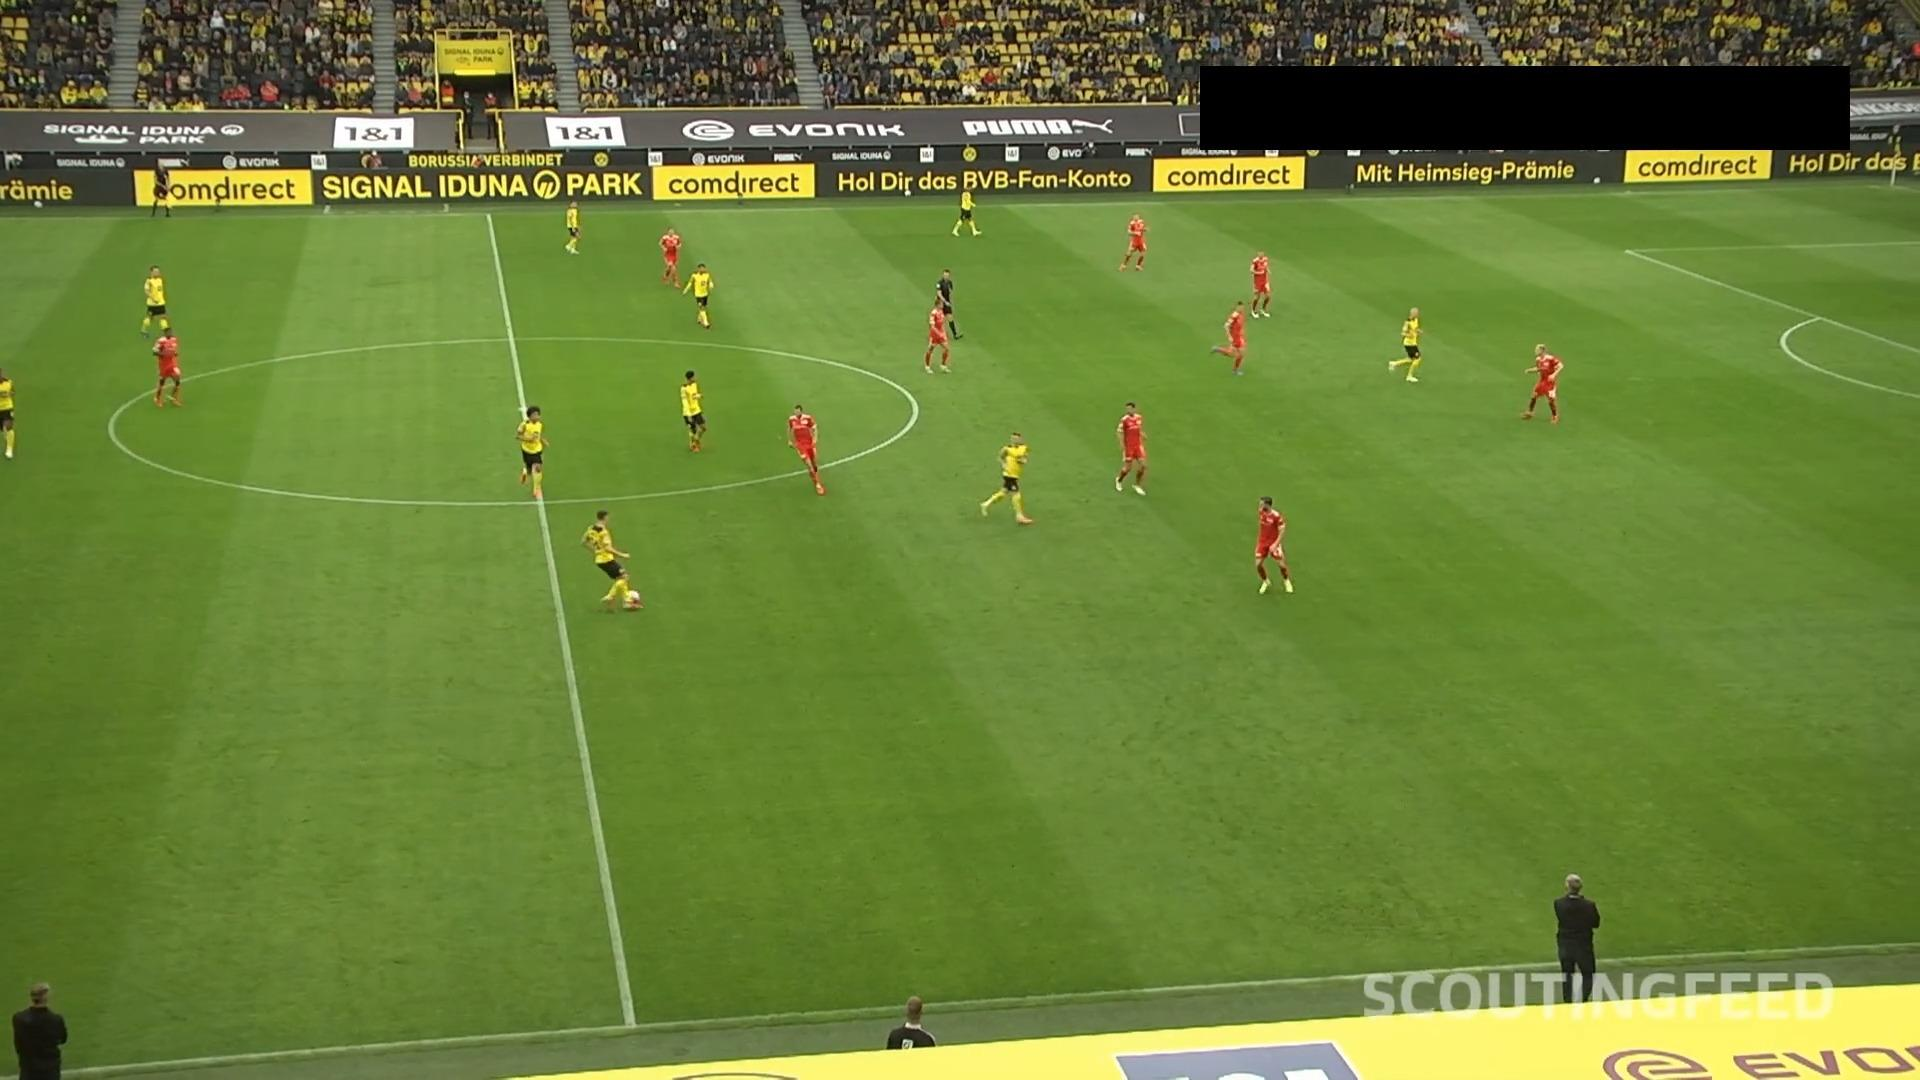ball: (621, 588, 641, 612)
